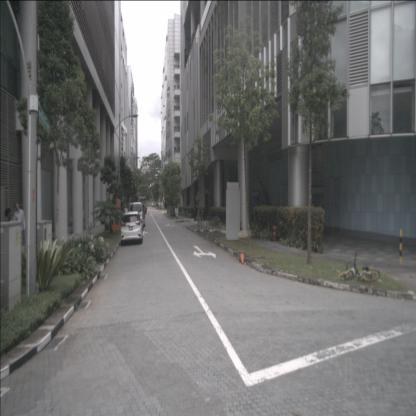human-pedestrian-adult: (13, 202, 26, 265), (3, 207, 14, 270), (194, 204, 197, 221)
movable_object-trafficcone: (238, 250, 245, 264)
vehicle-bicycle: (337, 251, 380, 283)
vehicle-car: (120, 211, 143, 246), (129, 202, 145, 231)
vehicle-truck: (138, 196, 147, 214)
